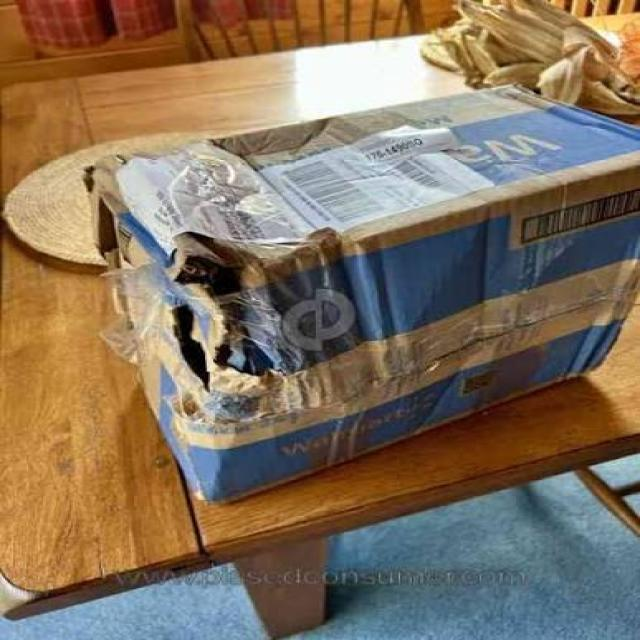package_damage: (70, 145, 422, 468)
